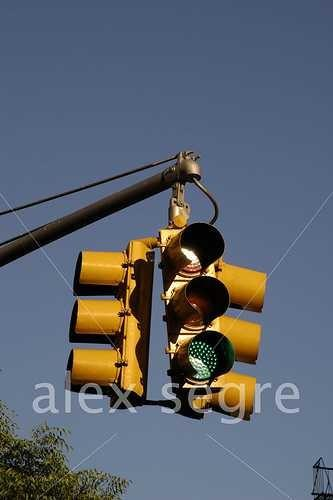red: (173, 336, 232, 391)
